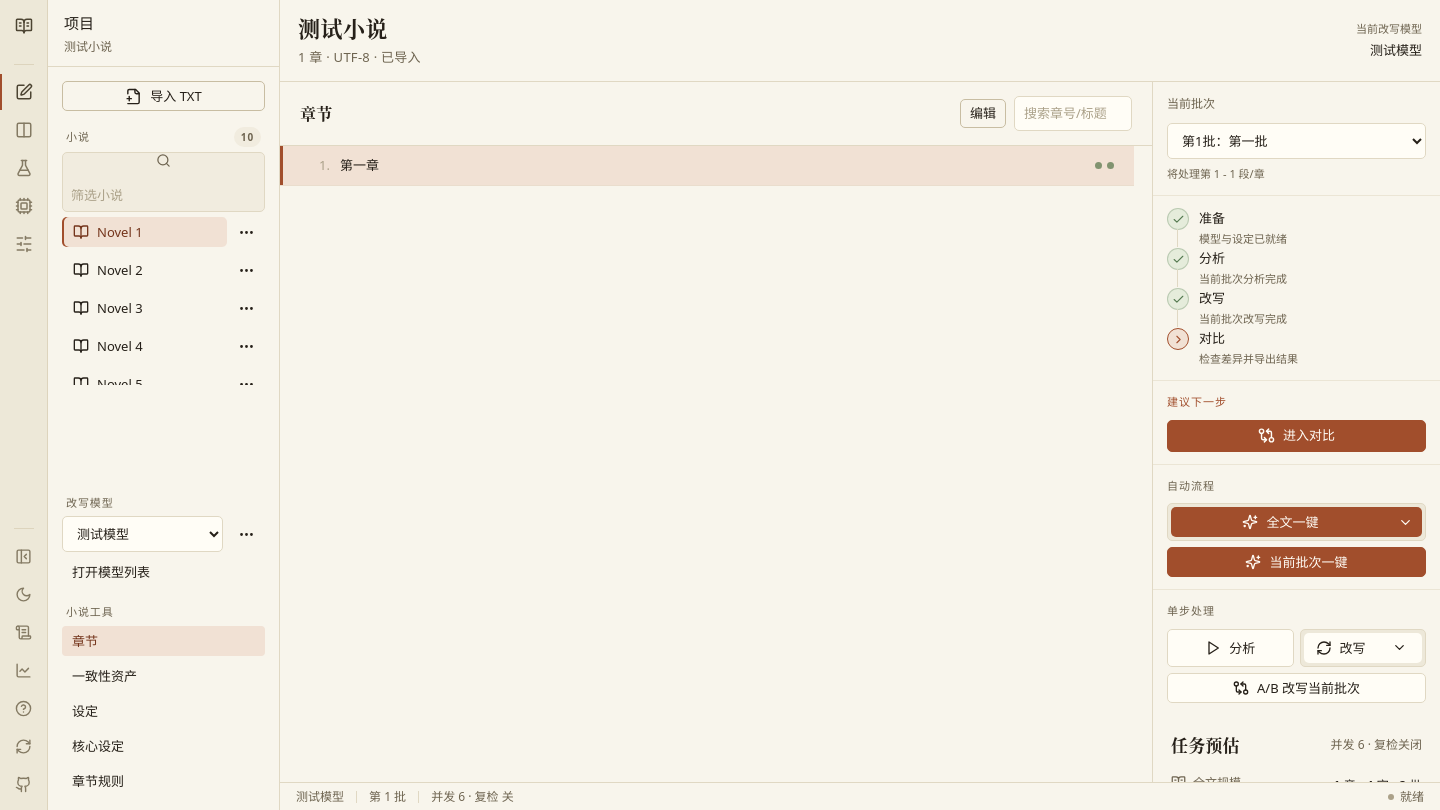
Test: App feature behavior › filters a bounded novel list without changing persisted data
Expected: the heading "测试小说" is shown, x1=298 y1=12 x2=388 y2=43
Expected: the element with class "novel-list" is shown, x1=62 y1=217 x2=265 y2=385
Type "NOVEL 10" into the search field labelled "筛选小说".
click(164, 195); type("NOVEL 10")  # box x1=71 y1=179 x2=256 y2=211
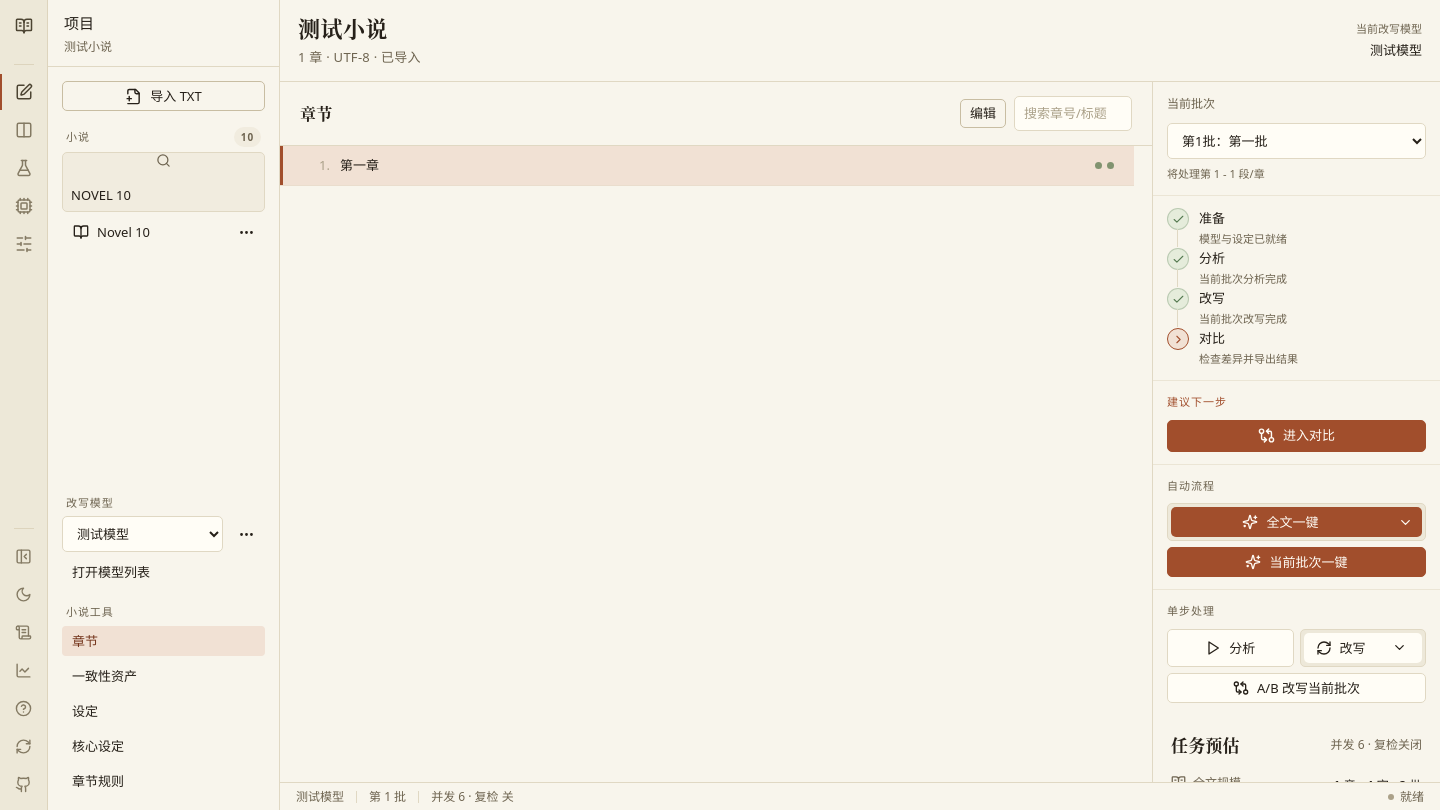
Expected: the button "Novel 10" is shown, x1=62 y1=217 x2=227 y2=247
Replace the text in the search field named "筛选小说" with "不存在" at {"x": 164, "y": 195}, box x1=71 y1=179 x2=256 y2=211
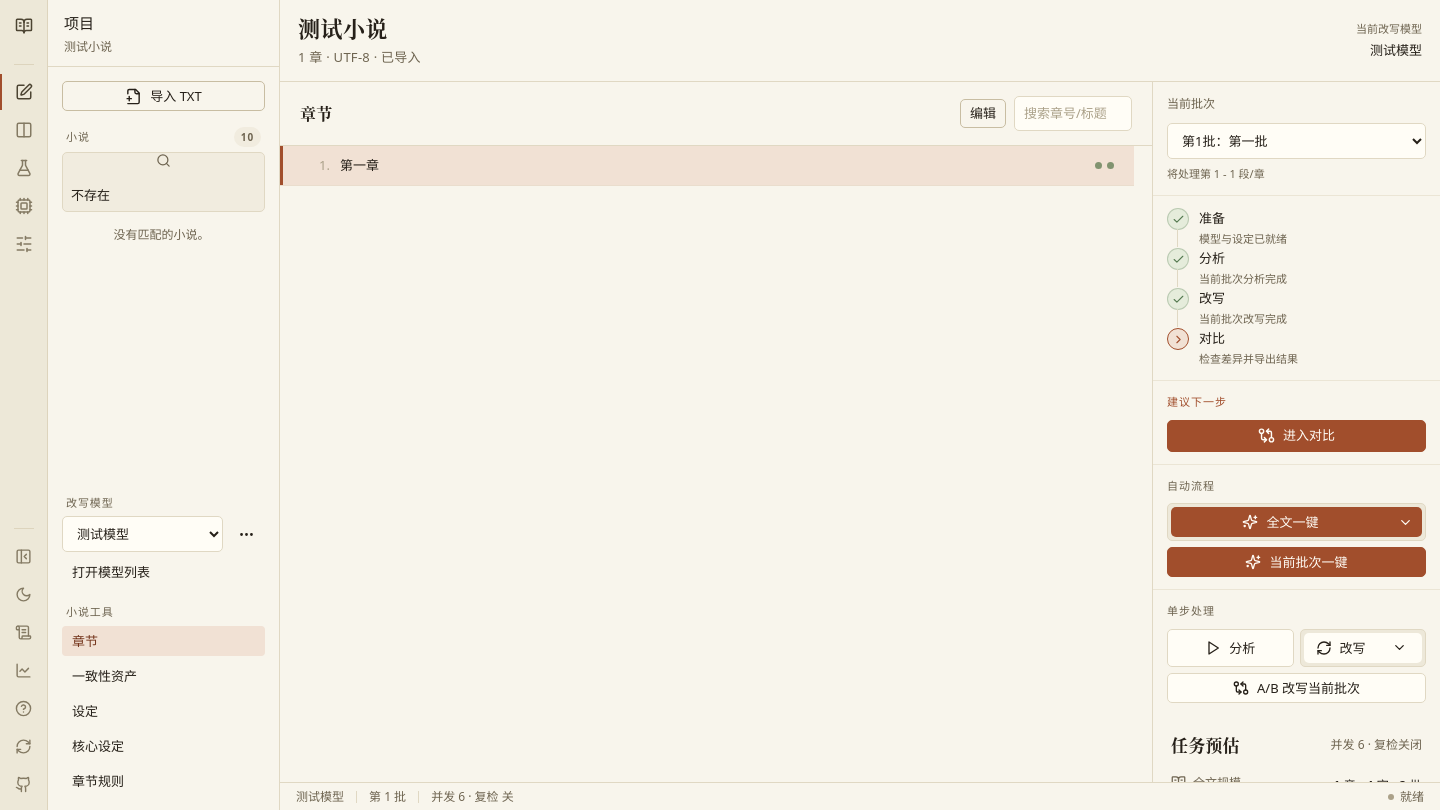
Expected: the text "没有匹配的小说。" is shown, x1=114 y1=226 x2=210 y2=243
